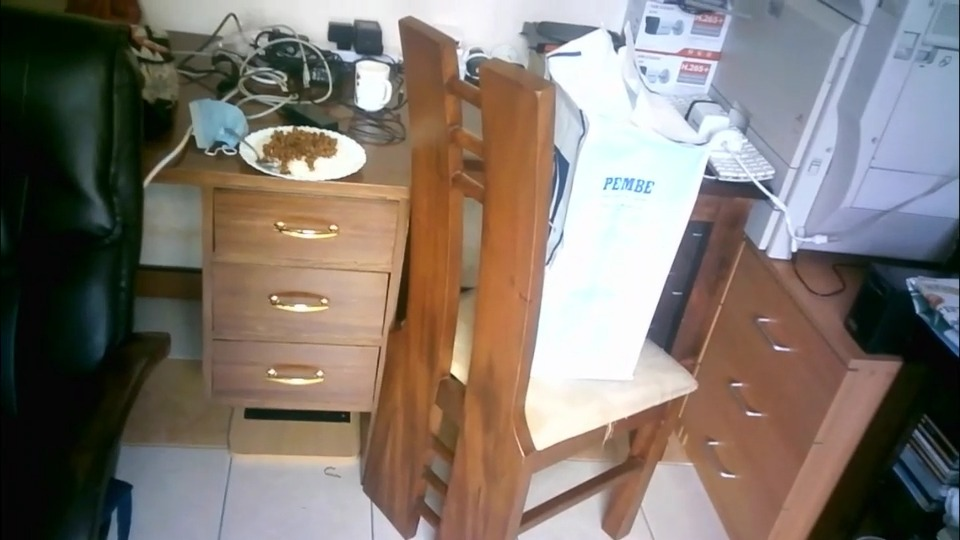wheat_flour_blue_label: (556, 54, 705, 377)
